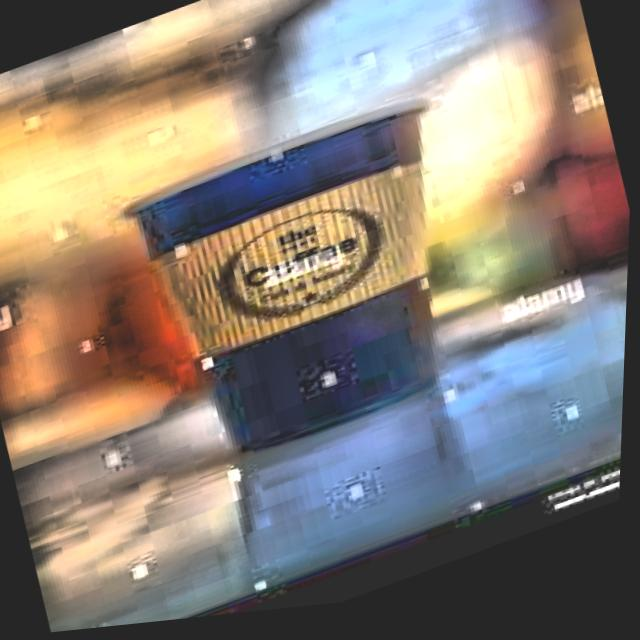Cup: (90, 83, 508, 500)
